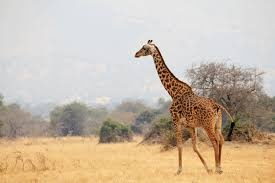giraffe: (133, 36, 239, 176)
